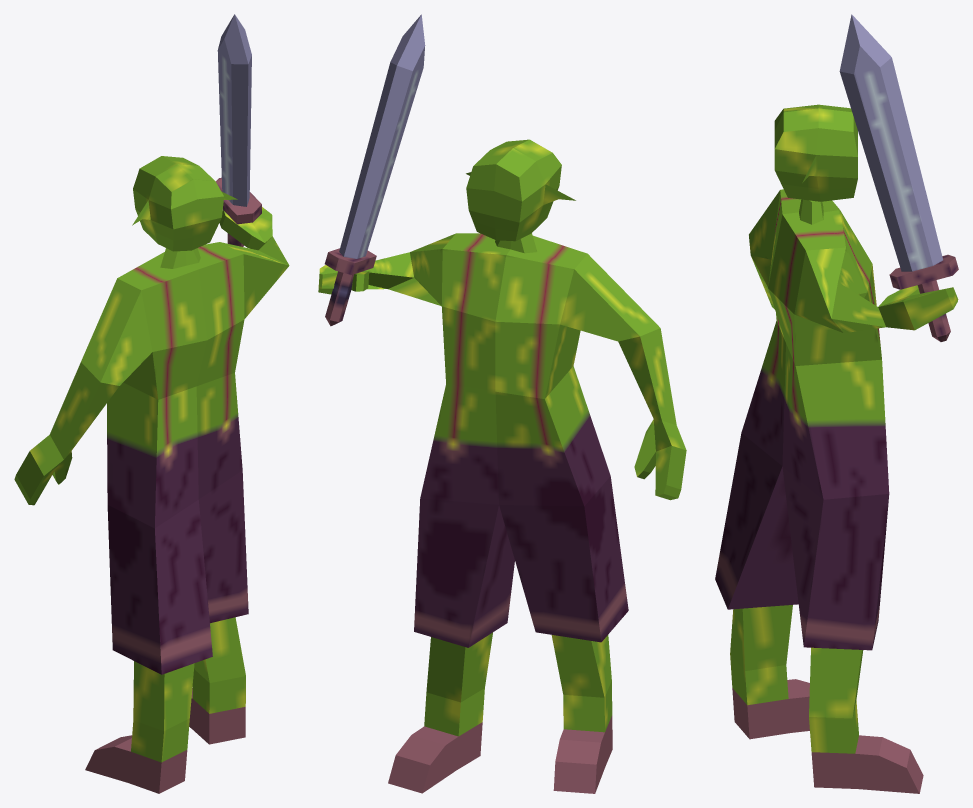
The model's file is goblin_sword.fbx.
3 views of the same model, side by side, from view 1: azimuth 30°, elevation 25°; view 2: azimuth 150°, elevation 25°; view 3: azimuth 270°, elevation 25° (orthographic). The views are drawn at different scales.
Parts seen in each view (by area): view 1: Cube.027; view 2: Cube.027; view 3: Cube.027.
Boxes of the visible parts, left/top/right/bottom form: Cube.027: left=14, top=14, right=289, bottom=793; Cube.027: left=318, top=14, right=686, bottom=793; Cube.027: left=715, top=14, right=958, bottom=793.
Bounding box in the file's own units: 134 × 317 × 89.97.
